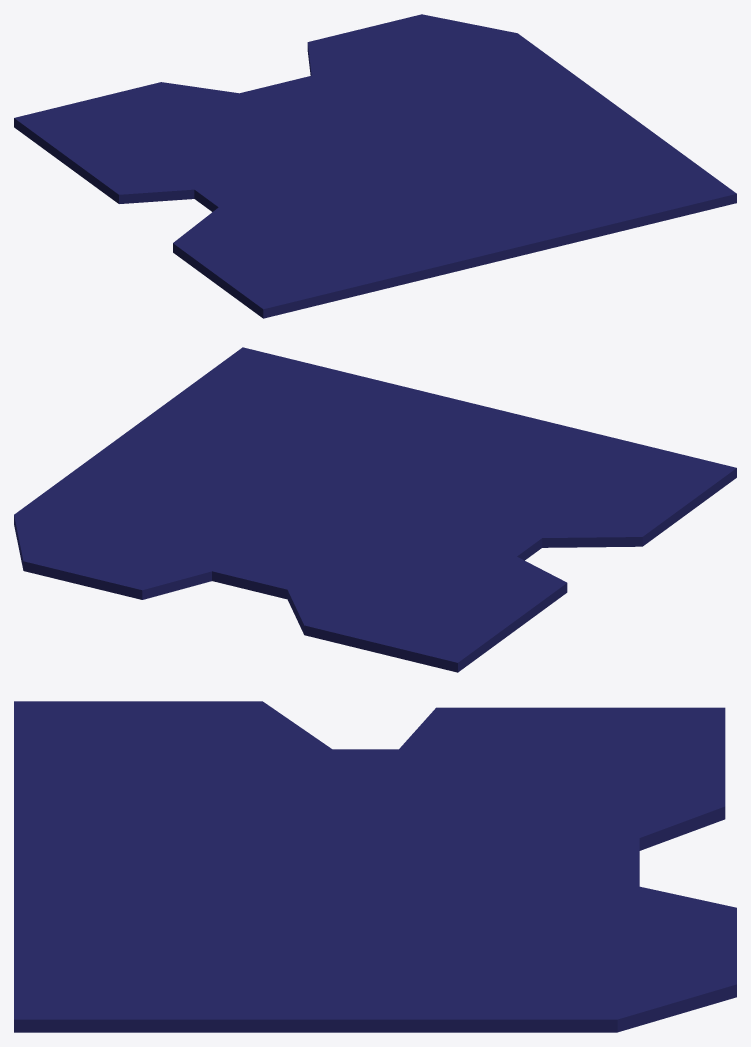
Rendered from NC_Ground02.fbx.
3 renders of one model, top to bottom at view 1: azimuth 30°, elevation 25°; view 2: azimuth 150°, elevation 25°; view 3: azimuth 270°, elevation 25°, orthographic. The views are drawn at different scales.
Visible parts, largest first — view 1: NC_Ground02; view 2: NC_Ground02; view 3: NC_Ground02.
Boxes of the visible parts, bbox=[...] form: NC_Ground02: bbox=[14, 14, 736, 318]; NC_Ground02: bbox=[14, 347, 736, 672]; NC_Ground02: bbox=[14, 701, 736, 1032].
Bounding box in the file's own units: 951 × 17.98 × 914.
1 material, 1 textured.
